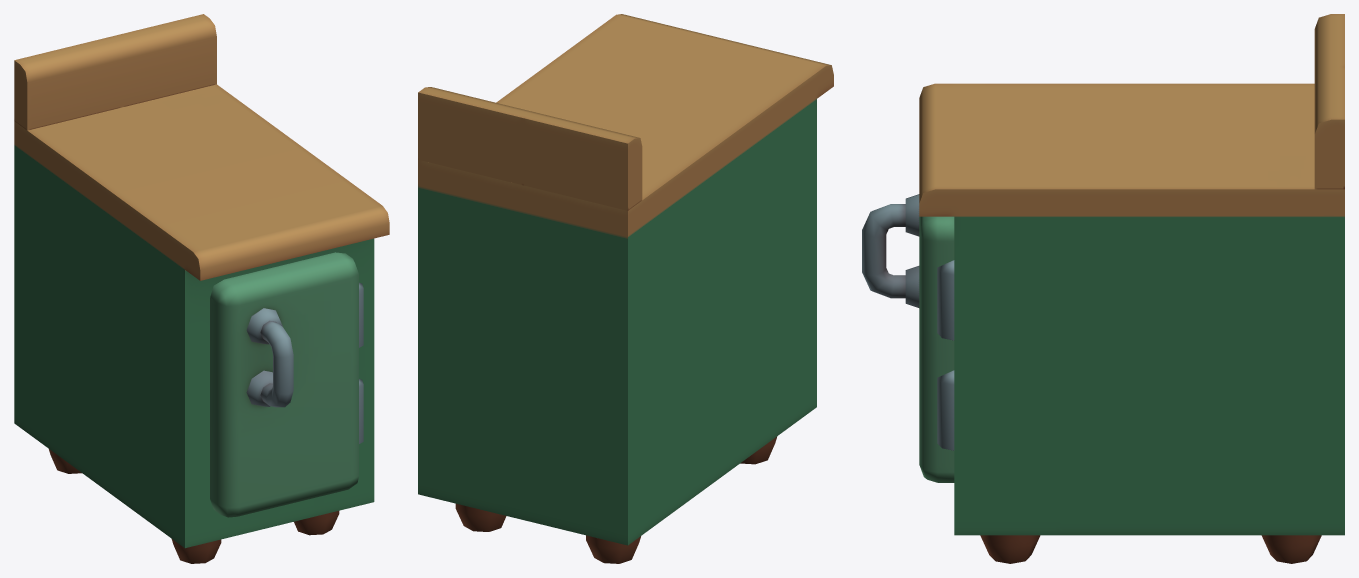
The model's file is small_cabinet_01.fbx.
3 views of the same model, side by side, from view 1: azimuth 30°, elevation 25°; view 2: azimuth 150°, elevation 25°; view 3: azimuth 270°, elevation 25° (orthographic). The views are drawn at different scales.
Parts seen in each view (by area): view 1: small_cabinet_01_ready; view 2: small_cabinet_01_ready; view 3: small_cabinet_01_ready.
Part boxes in pixels (left/top/right/bottom): small_cabinet_01_ready: left=14, top=14, right=389, bottom=563; small_cabinet_01_ready: left=418, top=14, right=833, bottom=563; small_cabinet_01_ready: left=862, top=14, right=1344, bottom=563.
Bounding box in the file's own units: 50 × 100 × 96.4.
